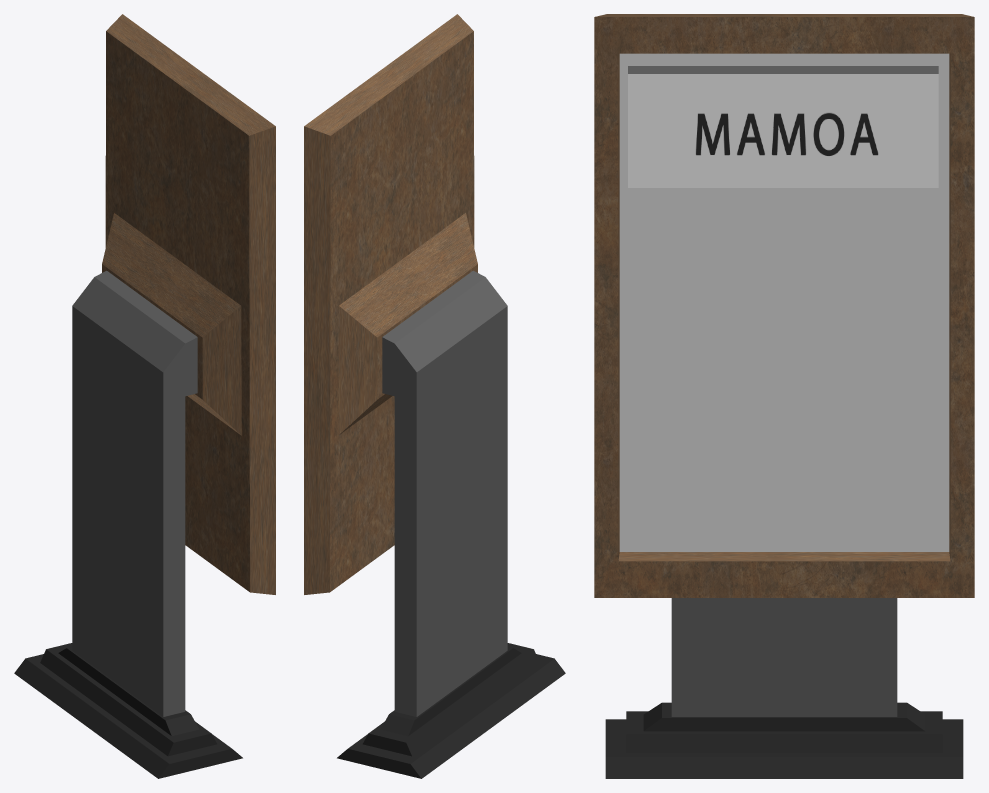
The model's file is botao1.glb.
The picture shows the model from 3 angles, left to right: view 1: azimuth 30°, elevation 25°; view 2: azimuth 150°, elevation 25°; view 3: azimuth 270°, elevation 25°; orthographic projection. The views are drawn at different scales.
Parts seen in each view (by area): view 1: Cube; view 2: Cube; view 3: Cube, Cube.001.
Boxes of the visible parts, x1=… form: Cube: x1=14, y1=14, x2=275, y2=778; Cube: x1=304, y1=14, x2=565, y2=778; Cube: x1=594, y1=14, x2=974, y2=778; Cube.001: x1=628, y1=66, x2=938, y2=187.
Size of the model in its own units: 0.903 by 4.75 by 2.1.
5 materials, 2 textured.
